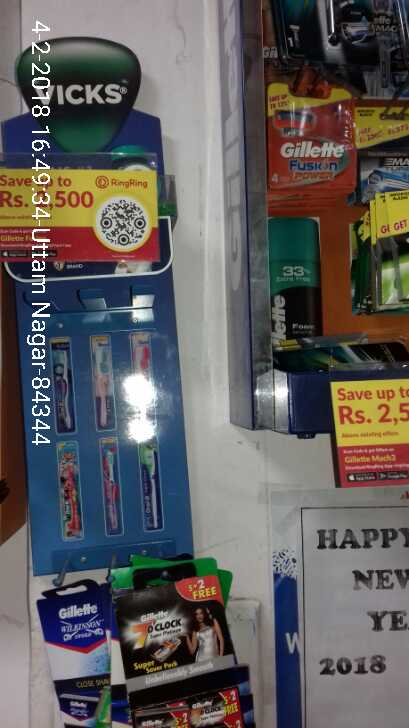gillette: (268, 86, 360, 209)
